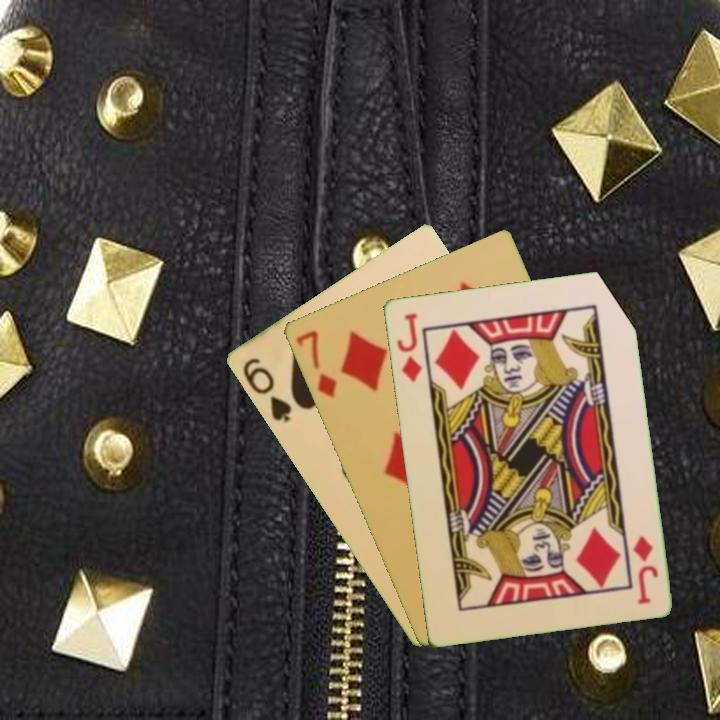6s: (238, 354, 294, 425)
7d: (291, 326, 340, 401)
Jd: (392, 309, 425, 385), (629, 531, 661, 607)
